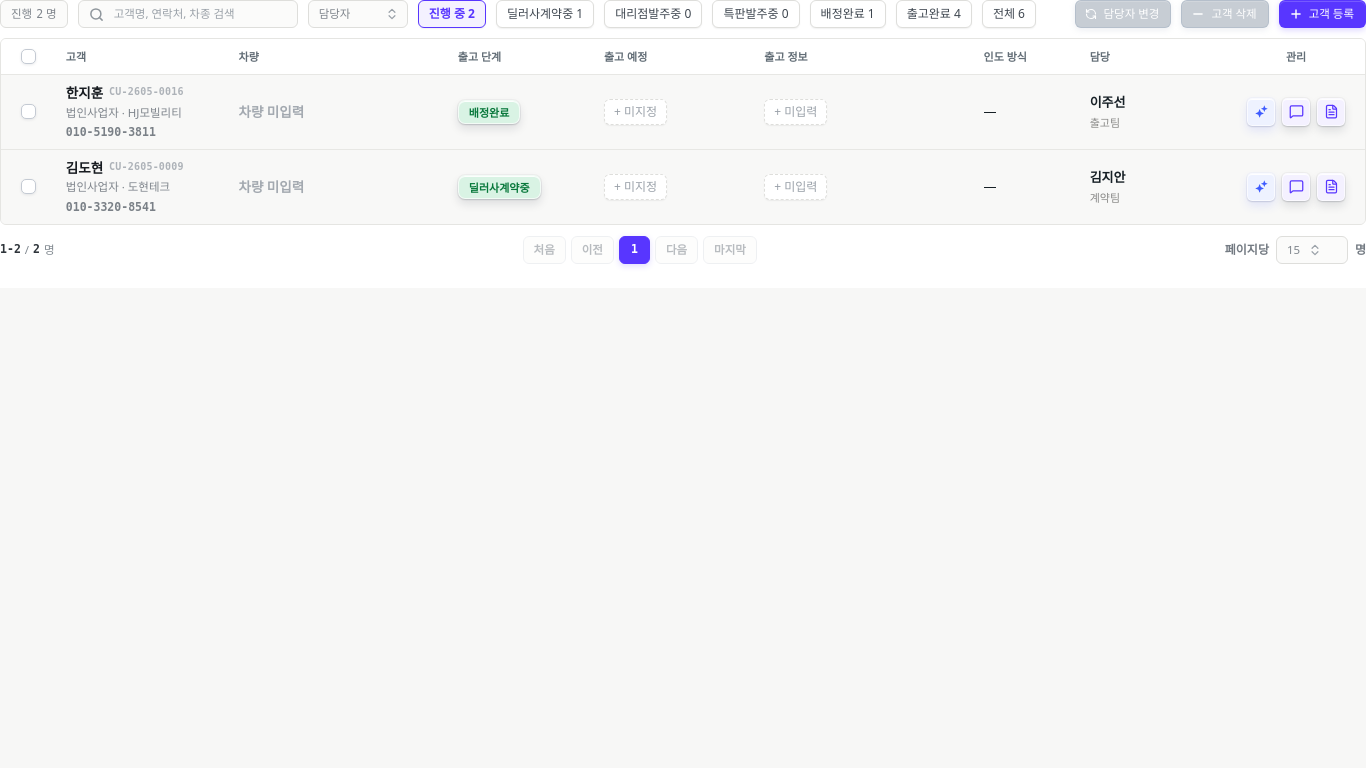
Test case: 출고 관리(delivery) 콘솔 › 출고 정보 미입력 셀 = '+ 미입력' 버튼, 클릭 시 폼형 팝오버(저장·취소)
Step 1. Click the button with aria-label "출고 정보 입력:" → [796, 112], box [764, 99, 827, 125]
(page scrolled)
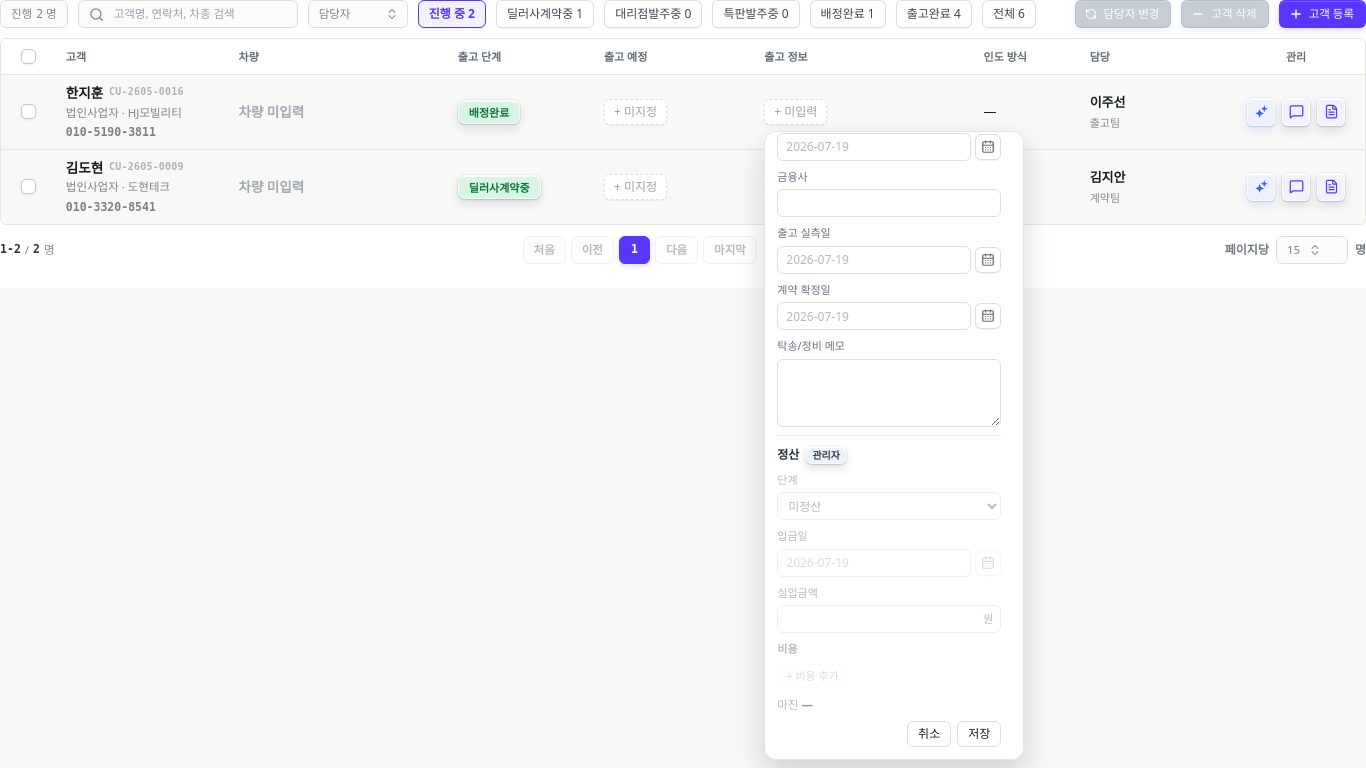
Expected: the button "저장" is shown, [957, 721, 1001, 747]
Expected: the button "취소" is shown, [907, 721, 951, 747]
